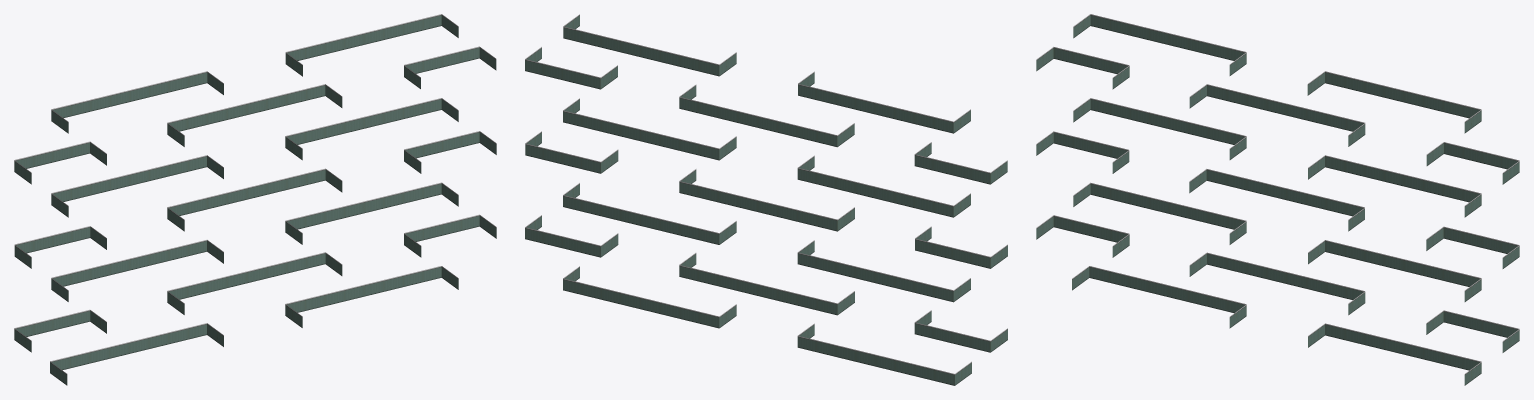
Rendered from aprtmntrailgs01_sfe.obj.
3 views of the same model, side by side, from view 1: azimuth 30°, elevation 25°; view 2: azimuth 150°, elevation 25°; view 3: azimuth 330°, elevation 25° (orthographic).
Visible parts, largest first — view 1: aprtmntrailgs01_SFe; view 2: aprtmntrailgs01_SFe; view 3: aprtmntrailgs01_SFe.
Part boxes in pixels (x1=…): aprtmntrailgs01_SFe: x1=14, y1=14, x2=496, y2=385; aprtmntrailgs01_SFe: x1=525, y1=14, x2=1007, y2=385; aprtmntrailgs01_SFe: x1=1036, y1=14, x2=1519, y2=385.
Size of the model in its own units: 58.12 by 31.5 by 3.77.
1 material, 1 textured.
